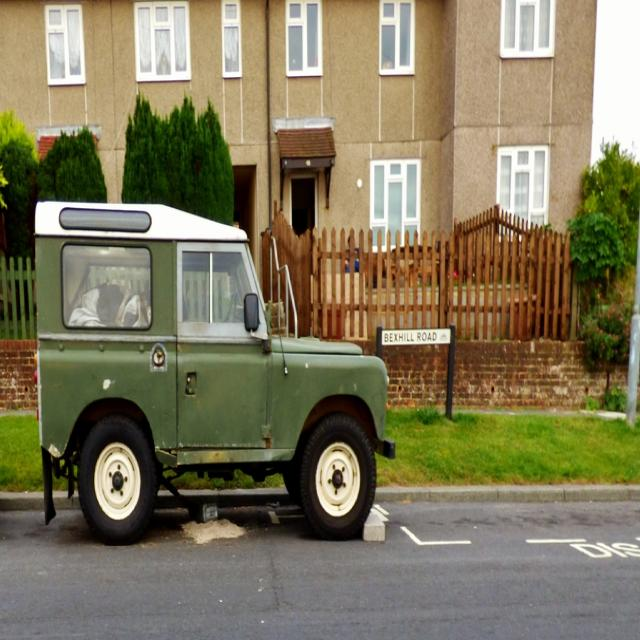car: (33, 205, 391, 527)
